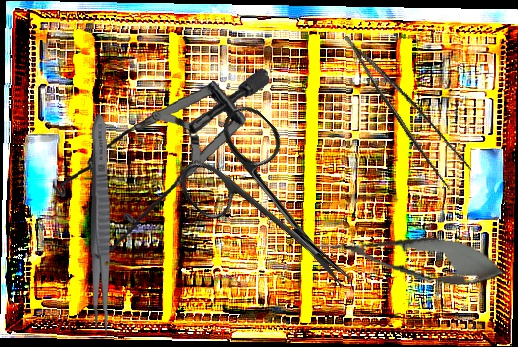Dressing Forceps: (88, 111, 114, 339)
Iris Scissors: (165, 98, 391, 323)
Micro Scissor: (313, 219, 511, 295)
Speculum: (44, 68, 284, 265)
Tissue Forceps: (342, 18, 476, 195)
